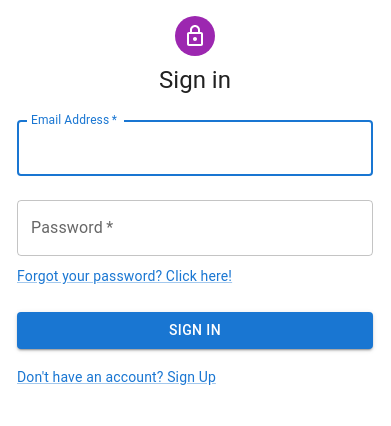
it: Login Page › shows error message for invalid email
The image size is (391, 426).
Type "invalid-email" into the field labelled "Email Address *".
click(195, 148); type("invalid-email")  # box [17,120,373,176]
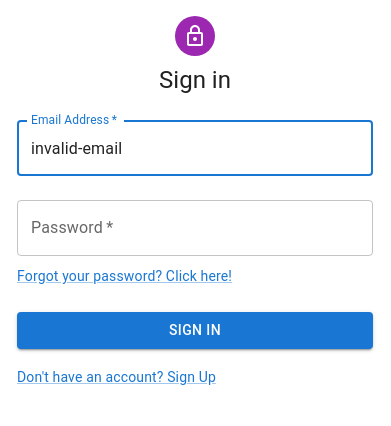
Click the button with test id "login-button".
click(195, 330)  # box [17,312,373,348]
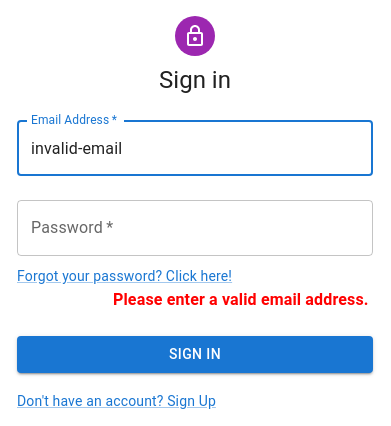
Expected: the text "Please enter a valid email address." is shown, [113,288,373,312]
